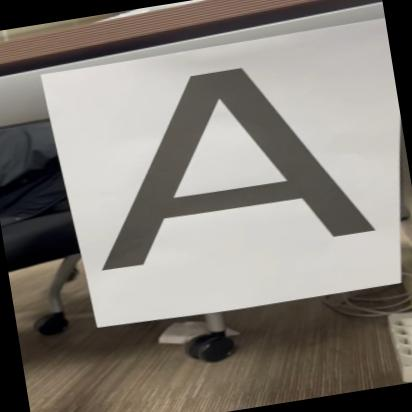seat: (63, 43, 385, 285)
